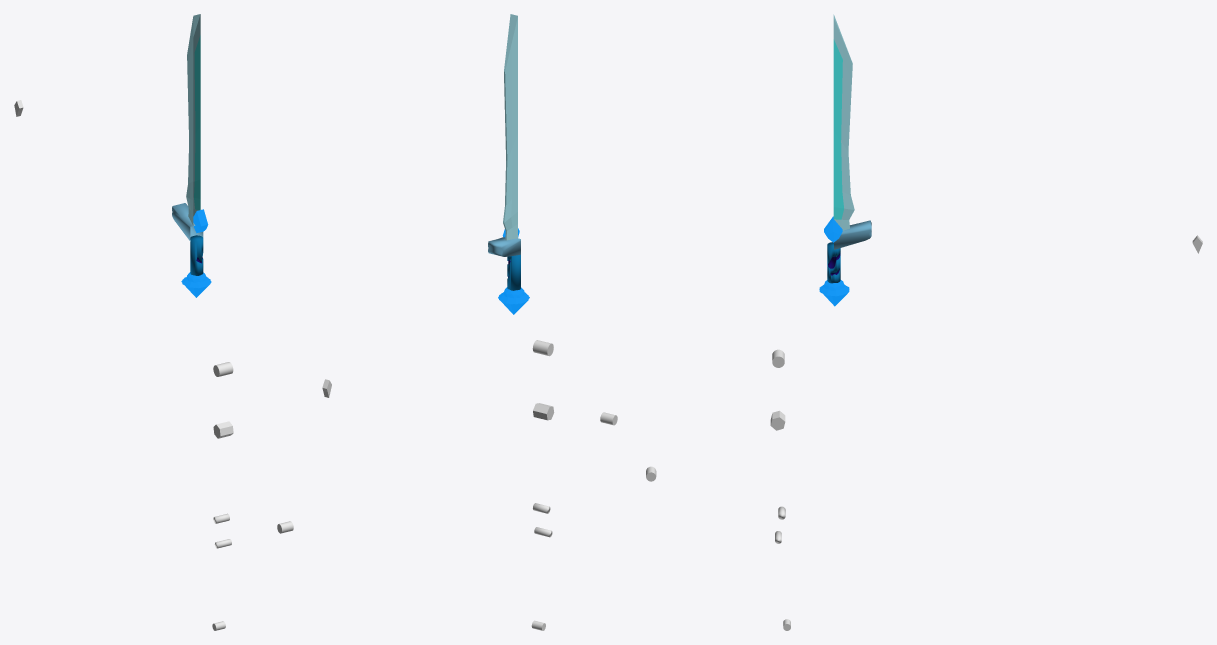
File: SWORD01.glb
3 views of the same model, side by side, from view 1: azimuth 30°, elevation 25°; view 2: azimuth 150°, elevation 25°; view 3: azimuth 270°, elevation 25° (orthographic). The views are drawn at different scales.
Visible parts, largest first — view 1: Cube.010, Cube.008, Cylinder.007; view 2: Cube.010, Cube.008, Cylinder.007; view 3: Cube.010.
Boxes of the visible parts, x1,y1,x2,y2 form: Cube.010: [186, 14, 200, 225]; Cube.008: [172, 203, 203, 241]; Cylinder.007: [190, 235, 203, 275]; Cube.010: [503, 14, 517, 240]; Cube.008: [488, 237, 520, 256]; Cylinder.007: [507, 255, 520, 290]; Cube.010: [833, 14, 854, 230].
Bounding box in the file's own units: 0.4361 × 9.65 × 7.94.
